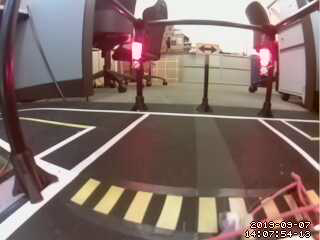Left_Right_sign: (195, 38, 225, 58)
Traffic_light_red: (258, 47, 276, 82), (133, 38, 143, 64)
